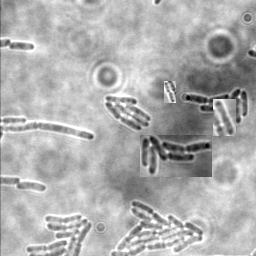Dividing: (1, 123, 95, 142), (8, 41, 35, 52), (164, 81, 176, 103)
Microcolony: (109, 200, 205, 255), (140, 135, 212, 177), (25, 212, 94, 255), (184, 89, 248, 126), (103, 96, 150, 132), (16, 182, 48, 193)
Rod: (213, 99, 236, 136)
